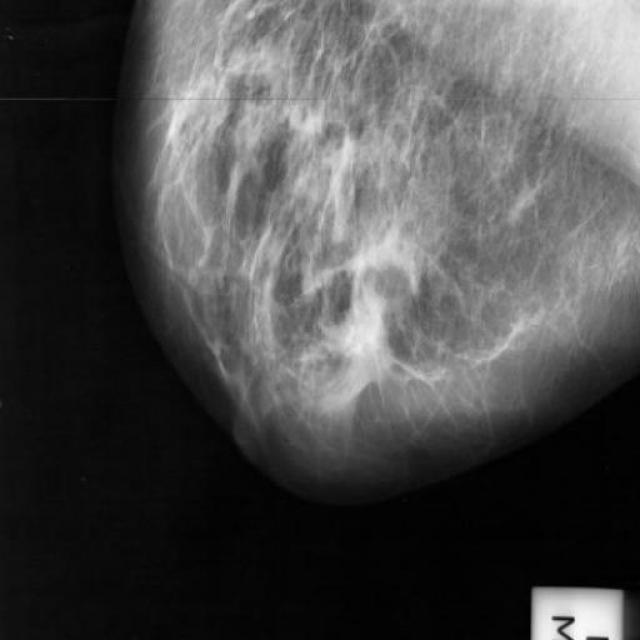cancer: (355, 320, 407, 390)
